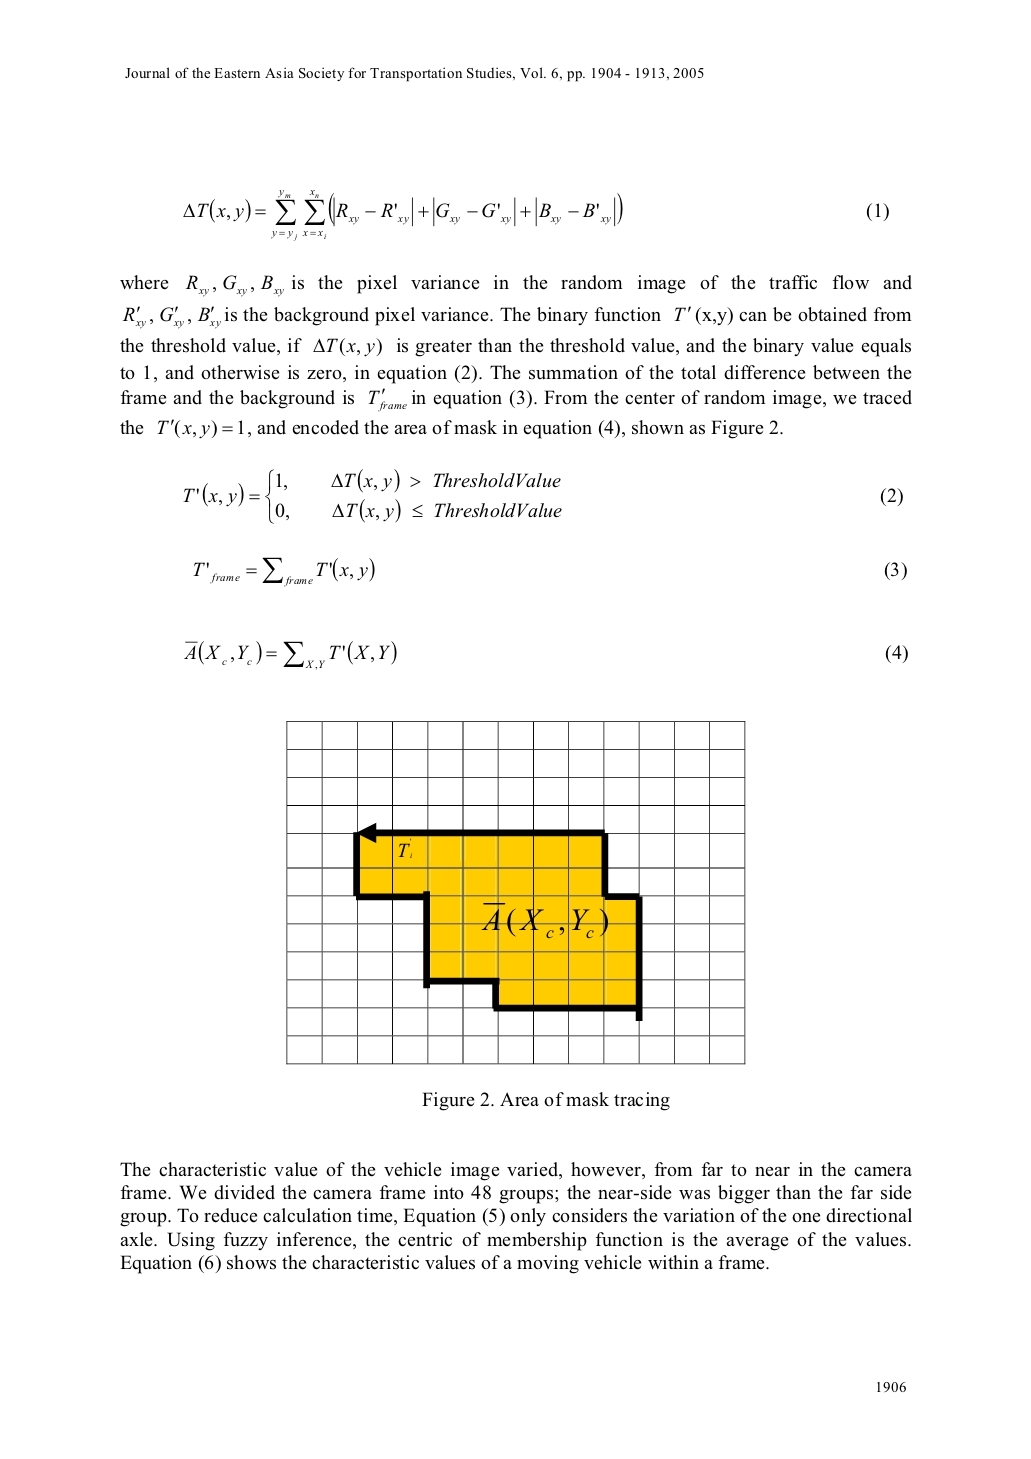figure: (286, 719, 745, 1065)
formula: (183, 468, 902, 524), (183, 190, 888, 240), (193, 555, 906, 587), (184, 640, 907, 670)
